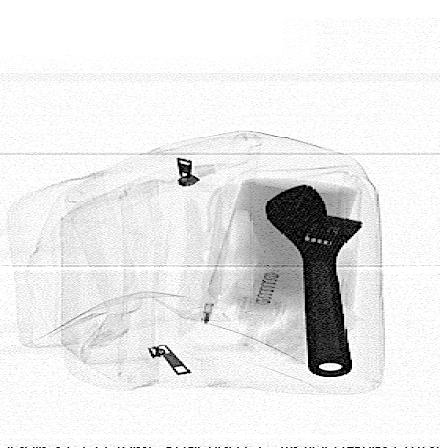Wrench: (265, 185, 364, 377)
